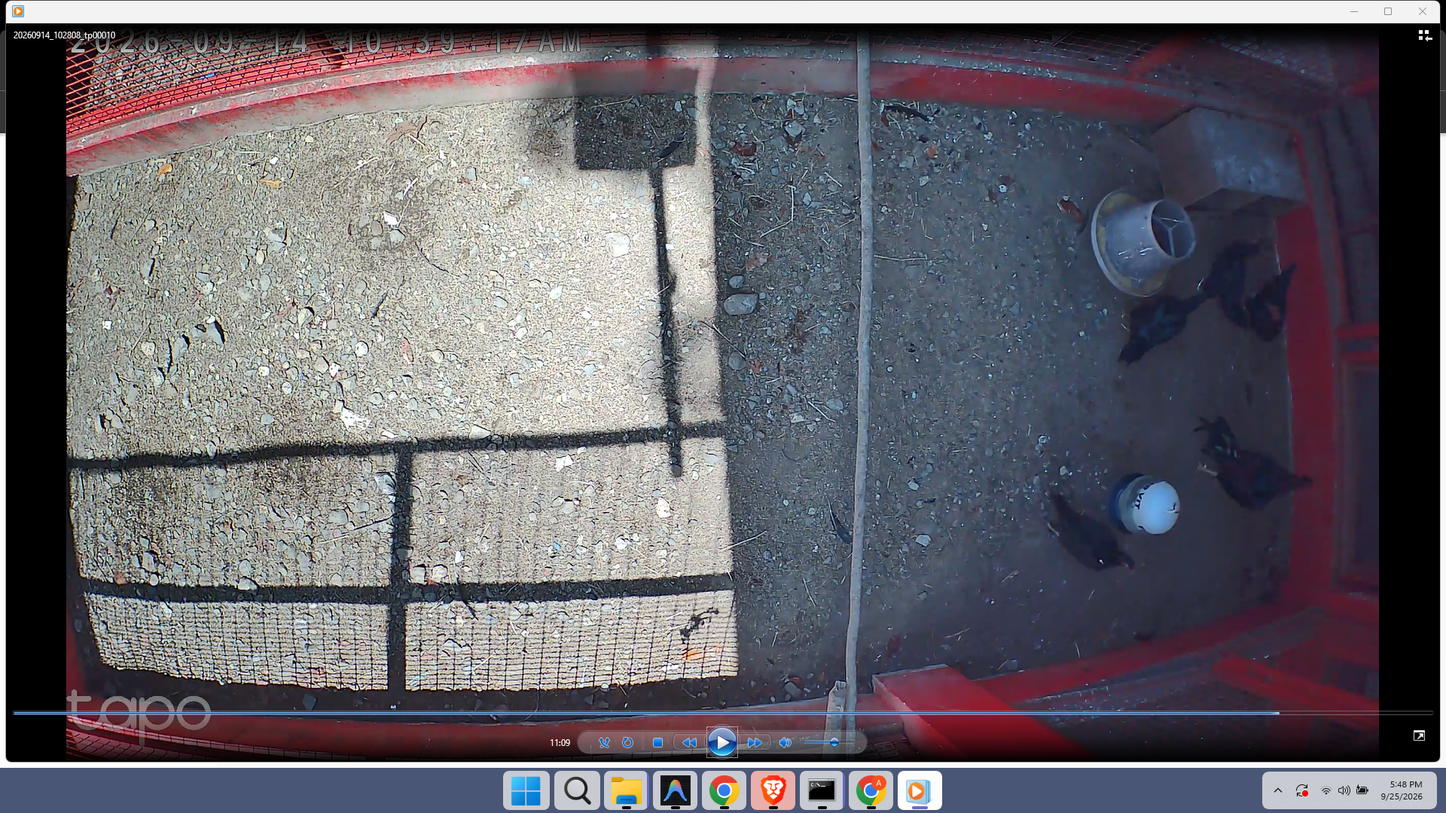Chicken: (1117, 285, 1218, 372), (1040, 493, 1140, 573), (1195, 233, 1266, 332), (1241, 258, 1300, 344)
Drinker: (1108, 471, 1186, 537)
Feeder: (1087, 184, 1198, 301)
Rooster: (1189, 409, 1321, 513)
